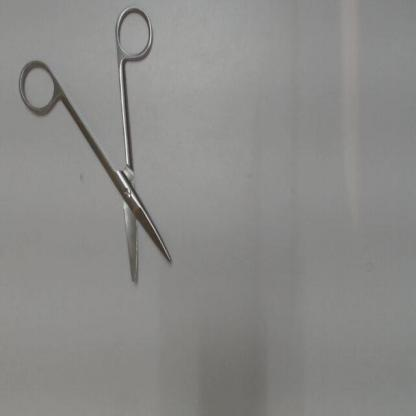Curved Mayo Scissors: (14, 3, 174, 293)
